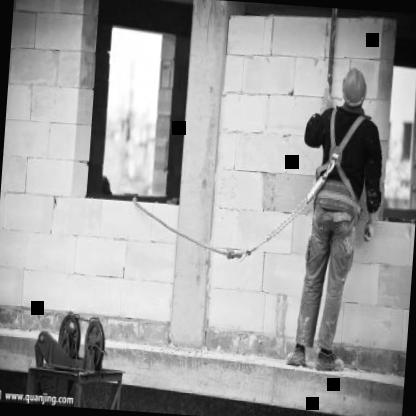helmet: (338, 62, 370, 117)
